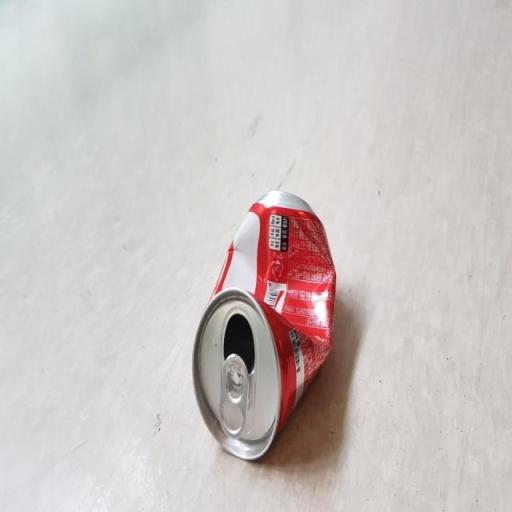metal: (180, 183, 344, 475)
